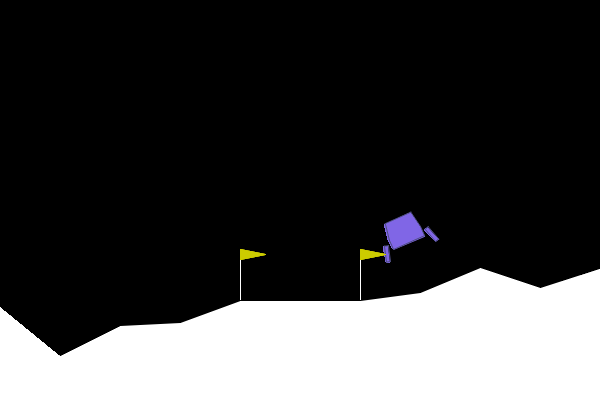lander: (369, 204, 440, 265)
